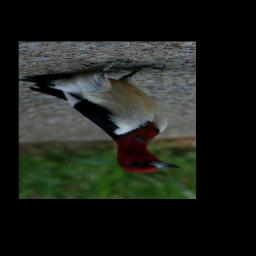Woodpecker: (19, 60, 186, 174)
